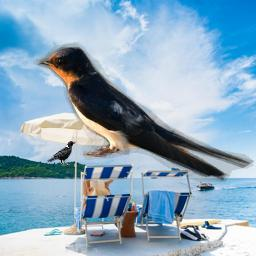Crow: (46, 140, 76, 166)
Swallow: (33, 40, 254, 182)
